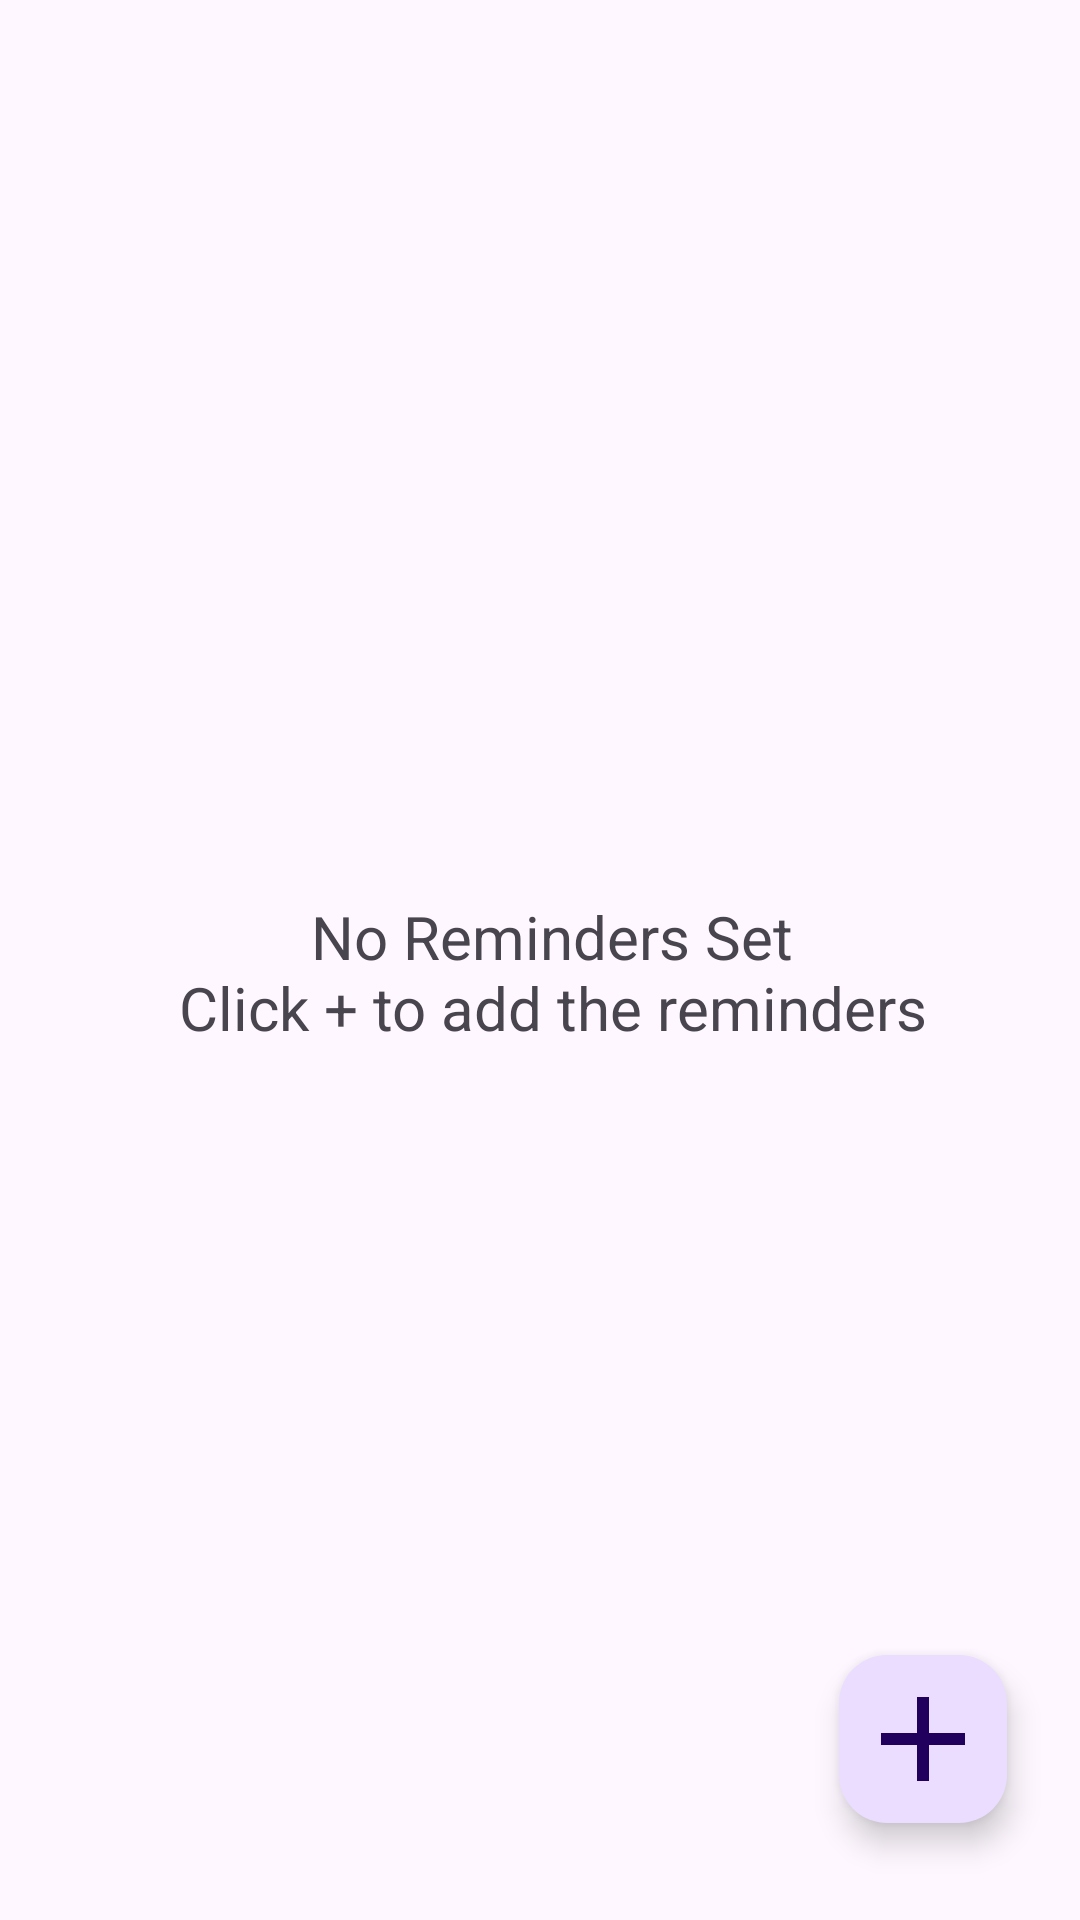

Point at icon controls on the screen. Image size 1080×1920, points as point (x, y).
Add new reminder: point (923, 1739)
